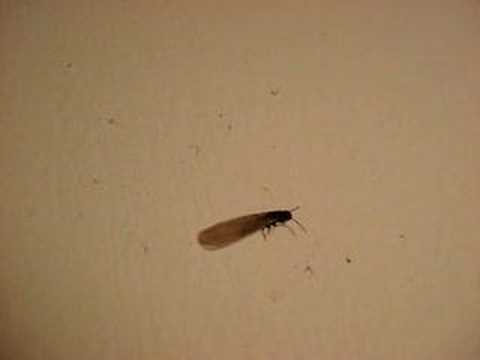flying termite: (194, 189, 311, 261)
